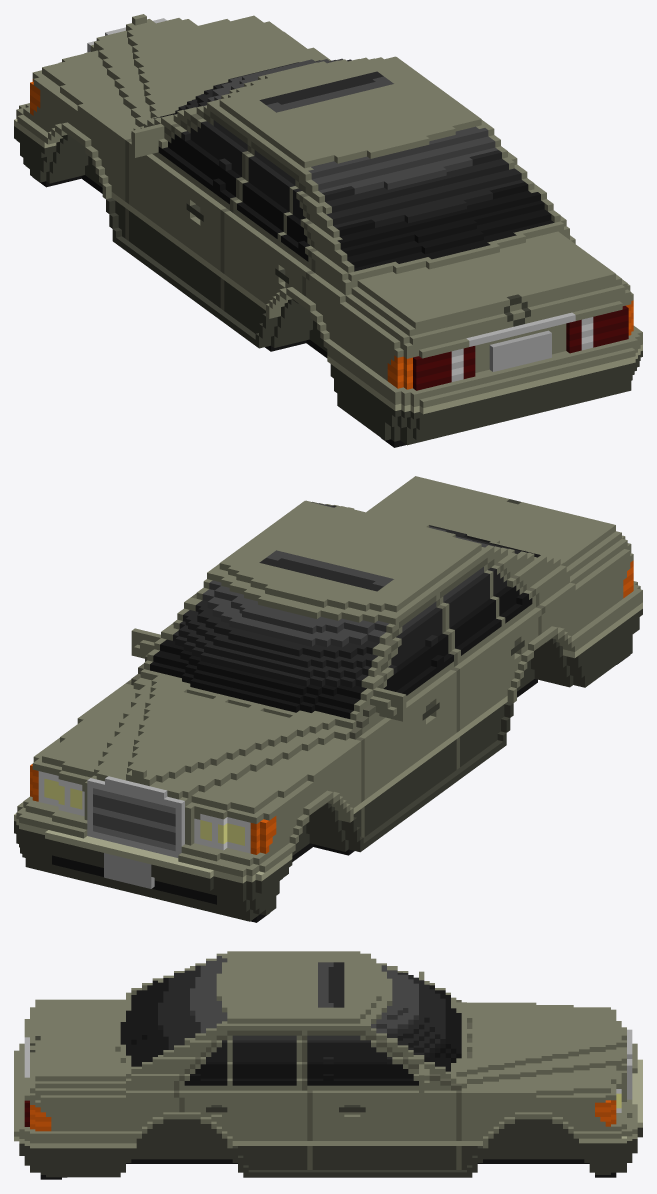
The picture shows the model from 3 angles, top to bottom: view 1: azimuth 30°, elevation 25°; view 2: azimuth 150°, elevation 25°; view 3: azimuth 270°, elevation 25°; orthographic projection. The views are drawn at different scales.
Parts seen in each view (by area): view 1: VOX; view 2: VOX; view 3: VOX.
Part boxes in pixels (x1,y1,x2,y2): VOX: (14,14,642,447); VOX: (14,476,642,922); VOX: (14,951,642,1179).
Size of the model in its own units: 0.046 by 0.031 by 0.118.
